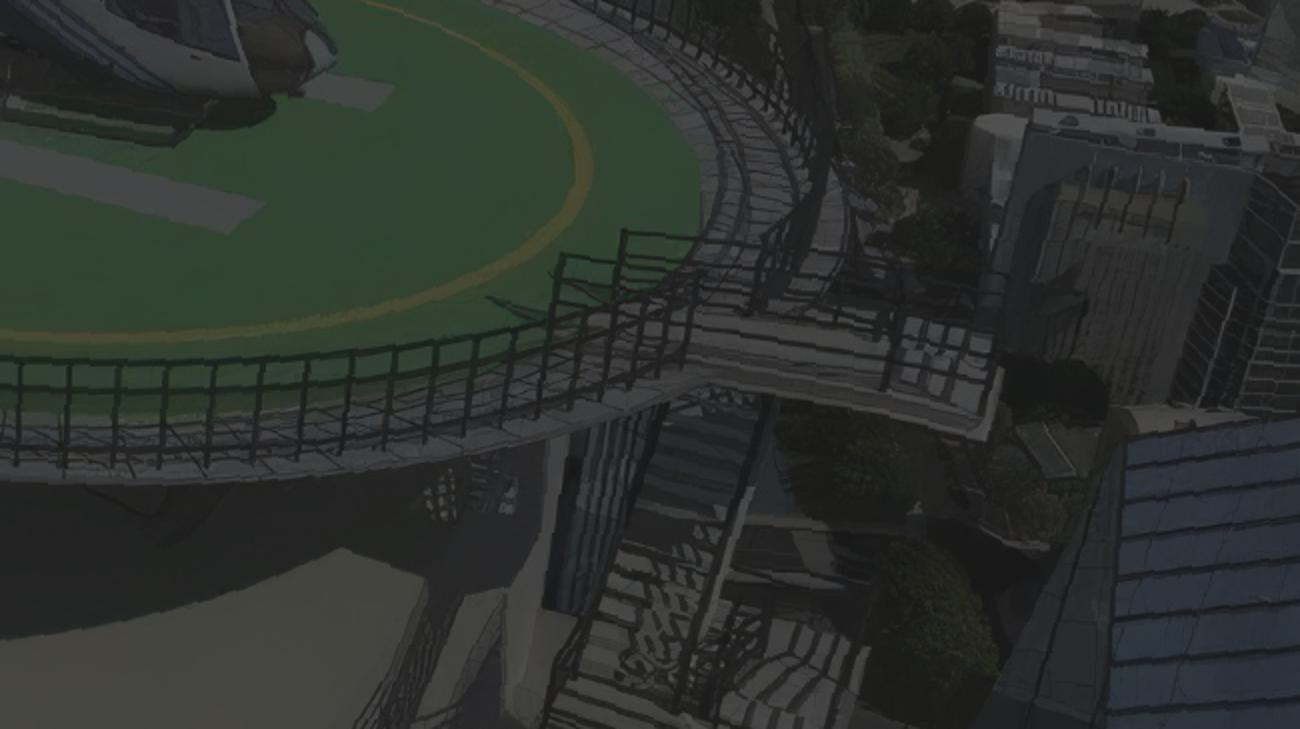Apron: (1, 1, 595, 353)
